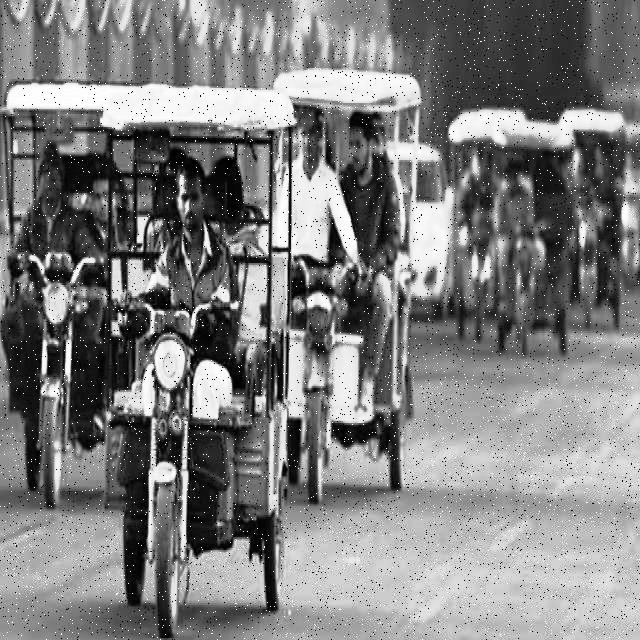Toto: (116, 84, 297, 640), (282, 71, 424, 510), (2, 78, 117, 507), (492, 129, 578, 366)
